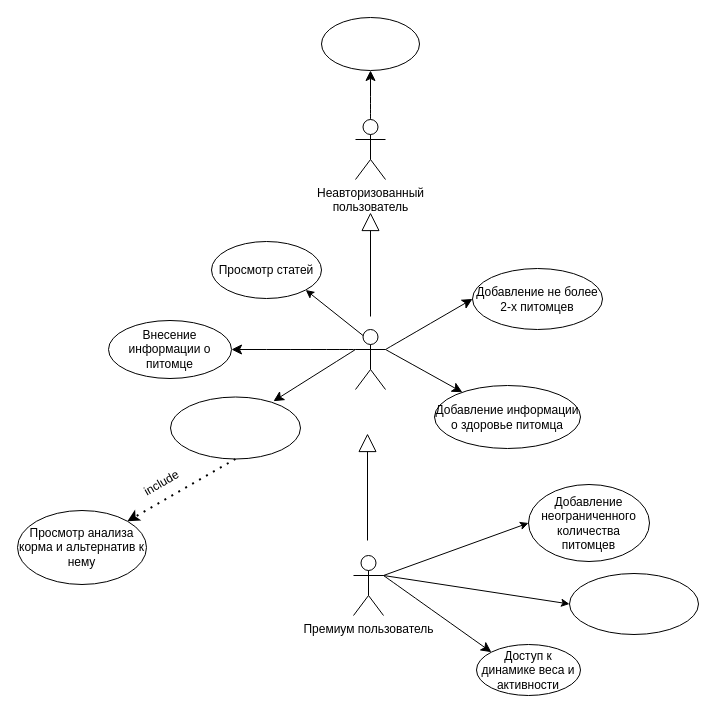
Image size: 716x713. Some labels were removed from this diagram. Each missing label, with the centre of its shape:
"Авторизованный пользователь" belongs at point (370, 359).
"Авторизоваться в системе" belongs at point (370, 43).
"Отключение рекламы в приложении" belongs at point (633, 603).
"Указание кол-ва и названия корма" belongs at point (235, 427).
